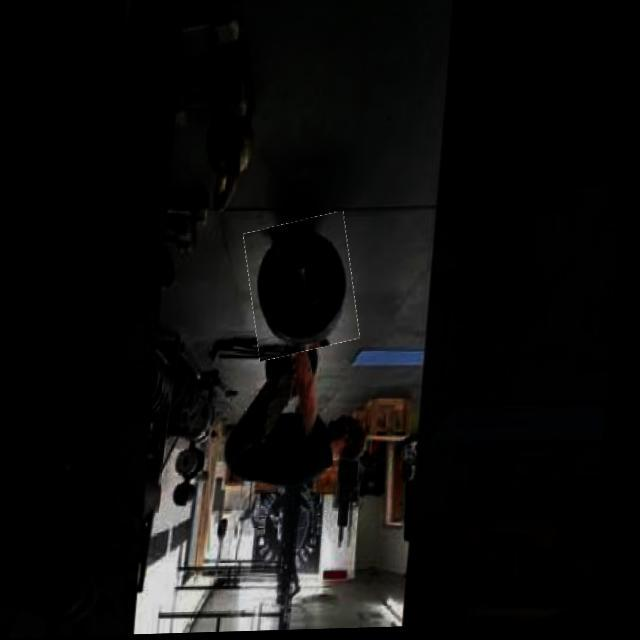barbell: (247, 218, 368, 360)
